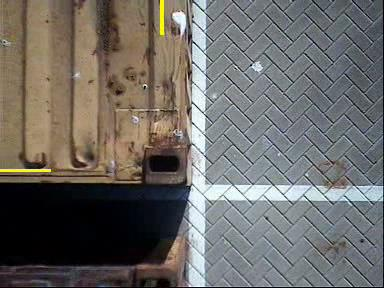groundmarker_2: (95, 177, 162, 226)
